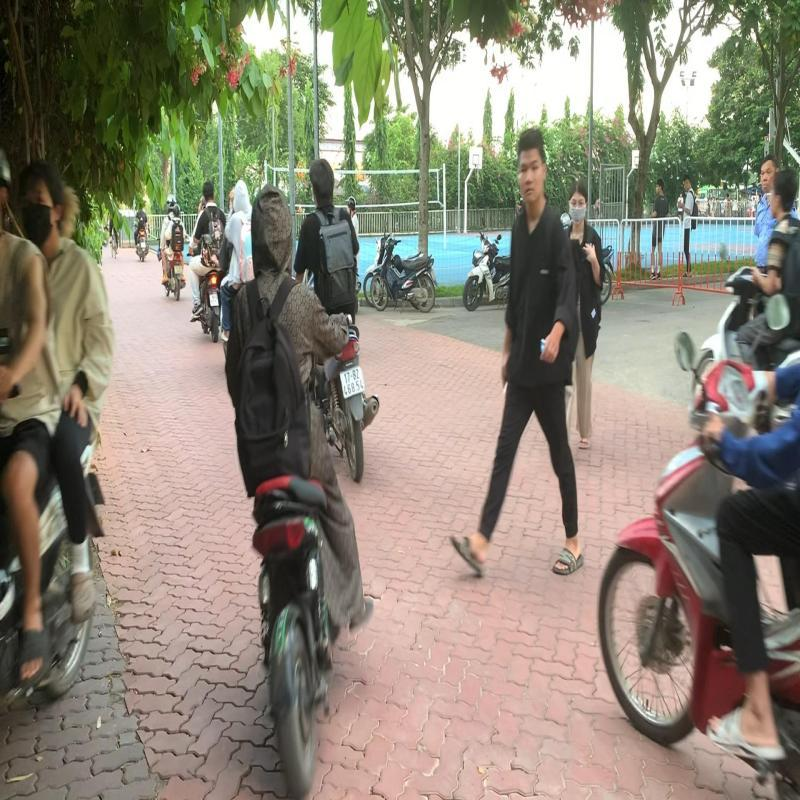nohelmet: (307, 155, 336, 206)
